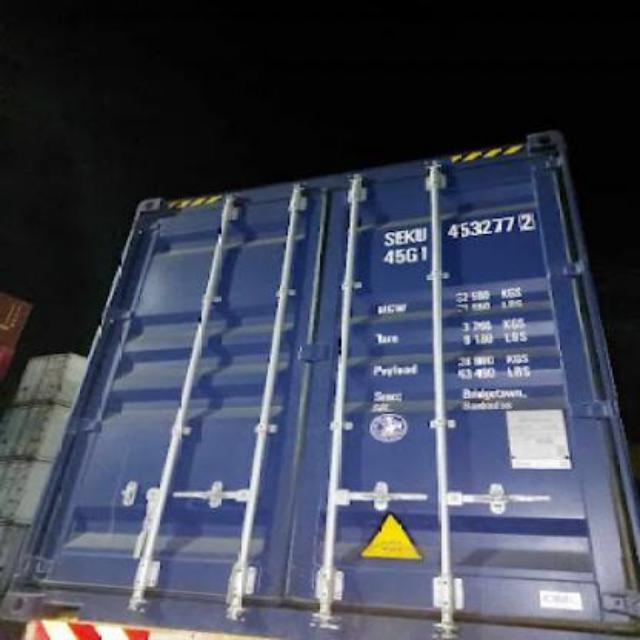2: (516, 207, 534, 236), (478, 212, 490, 238)
3: (470, 219, 480, 237)
4: (444, 217, 458, 243)
5: (458, 217, 468, 243)
7: (500, 211, 516, 237), (488, 211, 502, 237)
E: (392, 223, 406, 247)
K: (402, 225, 416, 248)
S: (382, 229, 394, 247)
U: (414, 223, 428, 244)
